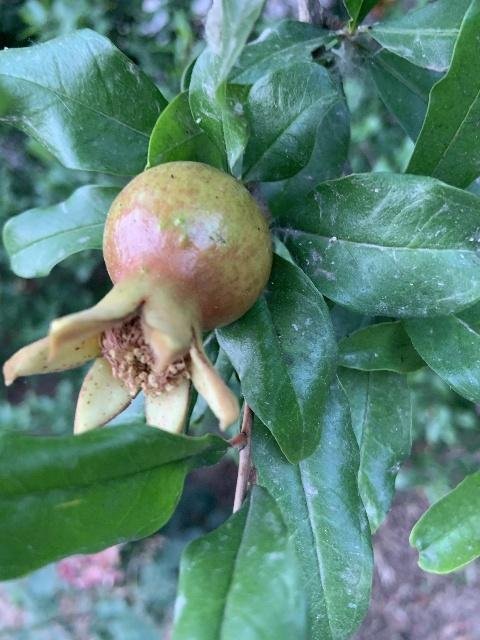early-fruit: (4, 159, 271, 442)
